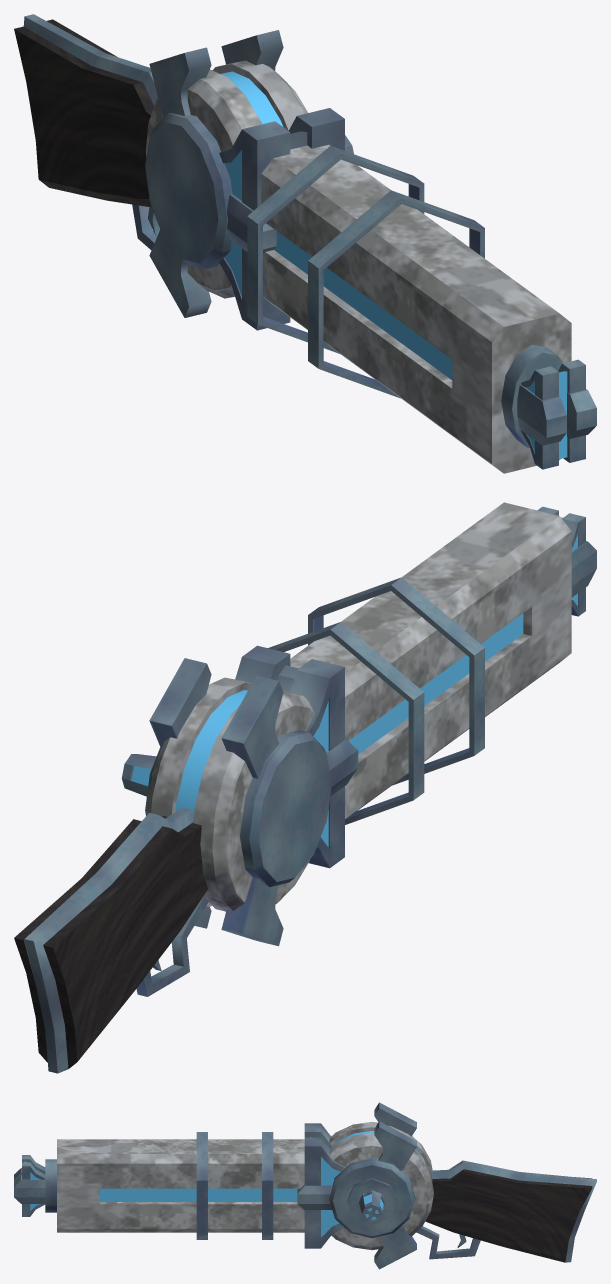
File: SM_PulseCannon.fbx
The picture shows the model from 3 angles, top to bottom: view 1: azimuth 30°, elevation 25°; view 2: azimuth 150°, elevation 25°; view 3: azimuth 270°, elevation 25°; orthographic projection. The views are drawn at different scales.
Parts seen in each view (by area): view 1: PulseCannonBody, Ring2, Ring1; view 2: PulseCannonBody, Ring2, Ring1; view 3: PulseCannonBody, Ring2, Ring1.
Boxes of the visible parts, left/top/right/bottom form: PulseCannonBody: left=14, top=14, right=596, bottom=473; Ring2: left=308, top=190, right=484, bottom=398; Ring1: left=247, top=146, right=424, bottom=353; PulseCannonBody: left=14, top=502, right=596, bottom=1073; Ring2: left=308, top=577, right=484, bottom=785; Ring1: left=268, top=622, right=424, bottom=824; PulseCannonBody: left=14, top=1102, right=596, bottom=1269; Ring2: left=196, top=1132, right=207, bottom=1239; Ring1: left=262, top=1132, right=273, bottom=1239.
Bounding box in the file's own units: 70.27 × 96.04 × 347.
